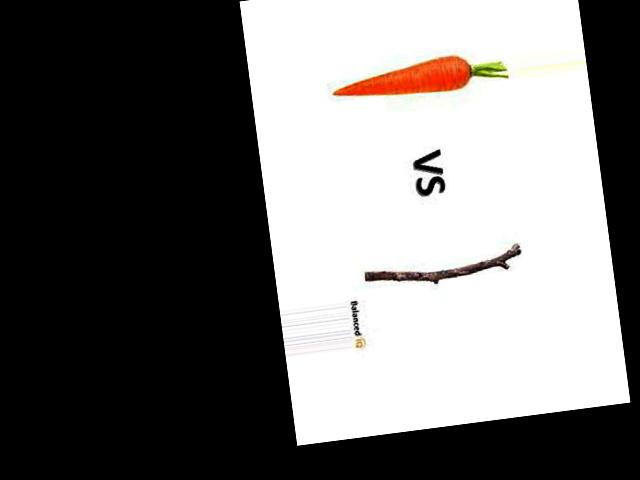carrot: (325, 50, 481, 112)
